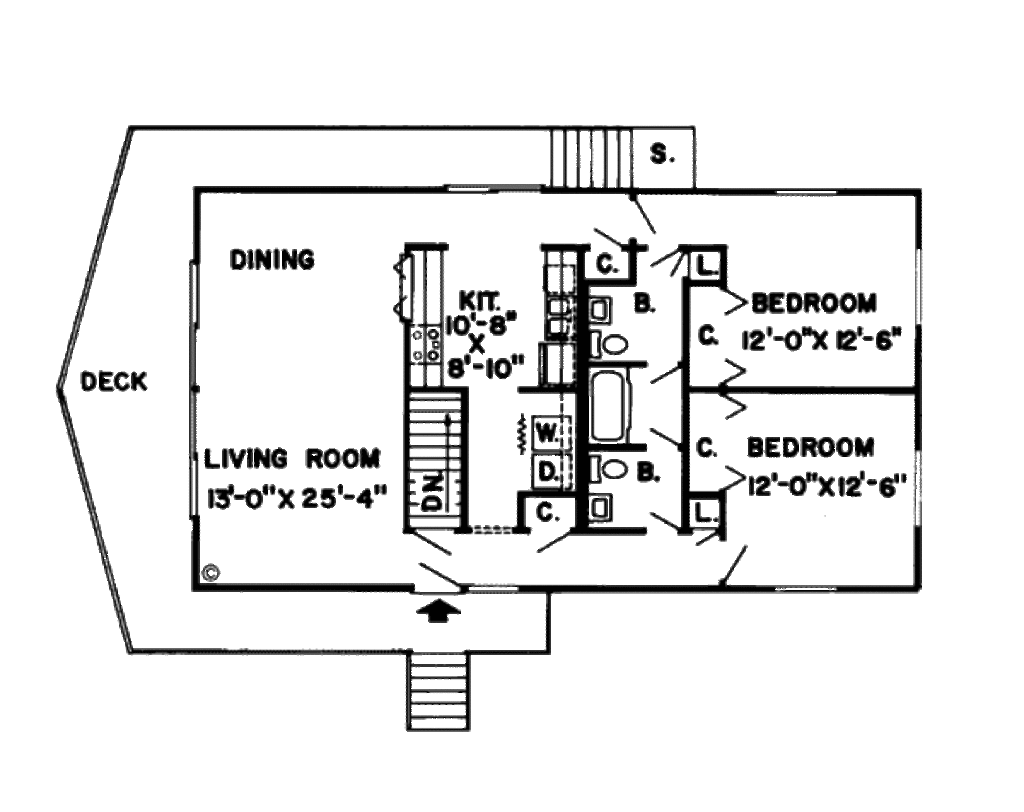large_sink: (586, 327, 636, 364), (588, 454, 638, 488)
stairs: (388, 386, 489, 750), (533, 120, 702, 193)
tub: (586, 366, 637, 446)
twin_sink: (539, 292, 574, 344)
window: (910, 445, 930, 524), (912, 249, 927, 323), (778, 580, 841, 597), (780, 187, 839, 204)
